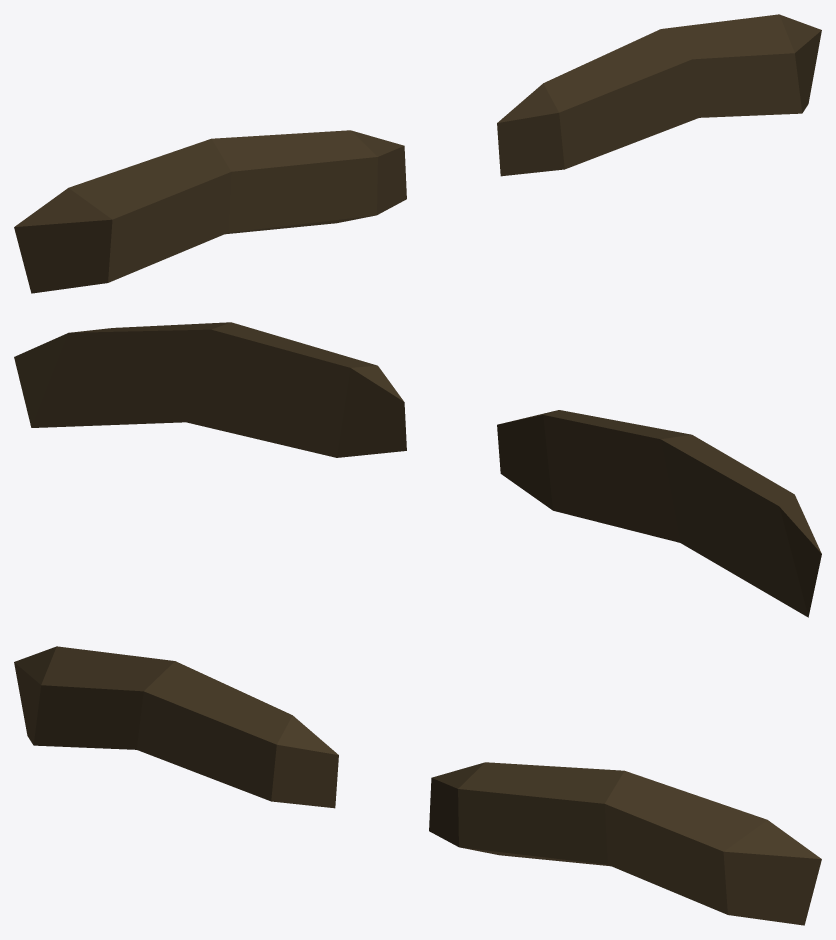
The model's file is Chr_Eyebrow_Female_06_Static.fbx.
The picture shows the model from 3 angles, top to bottom: view 1: azimuth 30°, elevation 25°; view 2: azimuth 150°, elevation 25°; view 3: azimuth 330°, elevation 25°; orthographic projection.
Parts seen in each view (by area): view 1: Chr_Eyebrow_Female_06_Static; view 2: Chr_Eyebrow_Female_06_Static; view 3: Chr_Eyebrow_Female_06_Static.
Boxes of the visible parts, bbox=[...] form: Chr_Eyebrow_Female_06_Static: bbox=[14, 14, 821, 293]; Chr_Eyebrow_Female_06_Static: bbox=[14, 322, 821, 617]; Chr_Eyebrow_Female_06_Static: bbox=[14, 646, 821, 925].
Bounding box in the file's own units: 0.1721 × 0.0258 × 0.0195.
